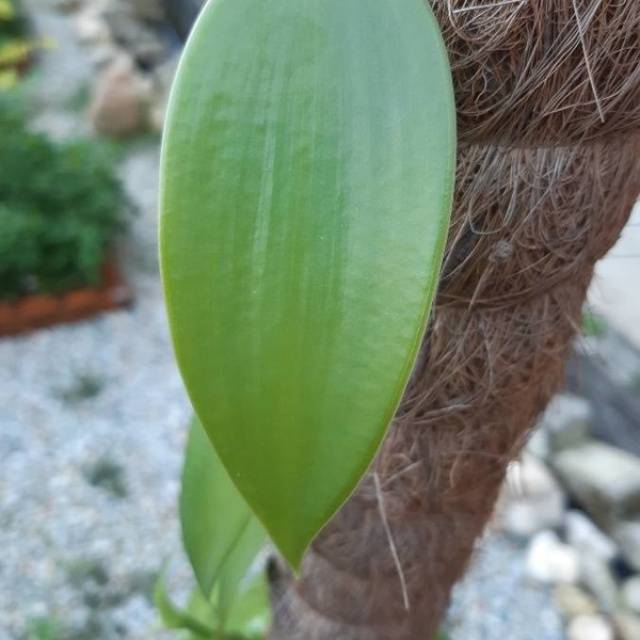obstacle: (145, 11, 439, 561)
